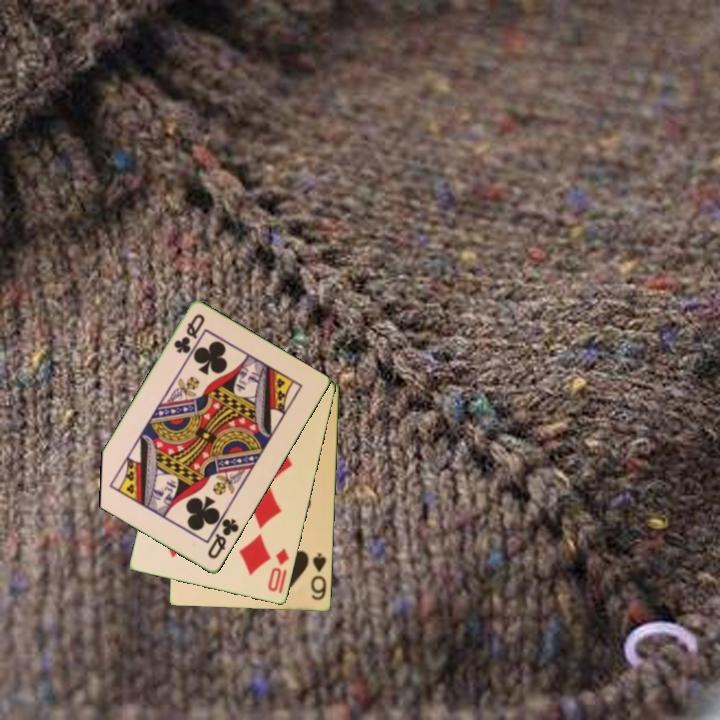10d: (264, 545, 292, 595)
6s: (308, 550, 329, 603)
Qc: (204, 515, 242, 563), (170, 311, 208, 357)
